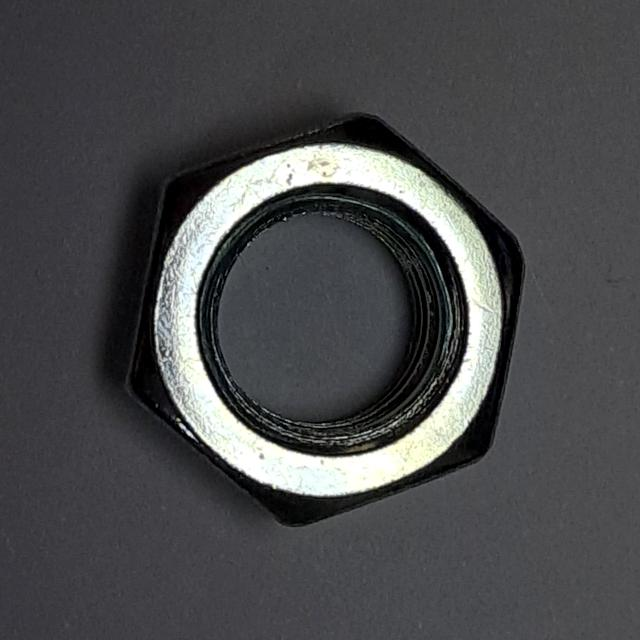Excellent: (104, 92, 541, 547)
